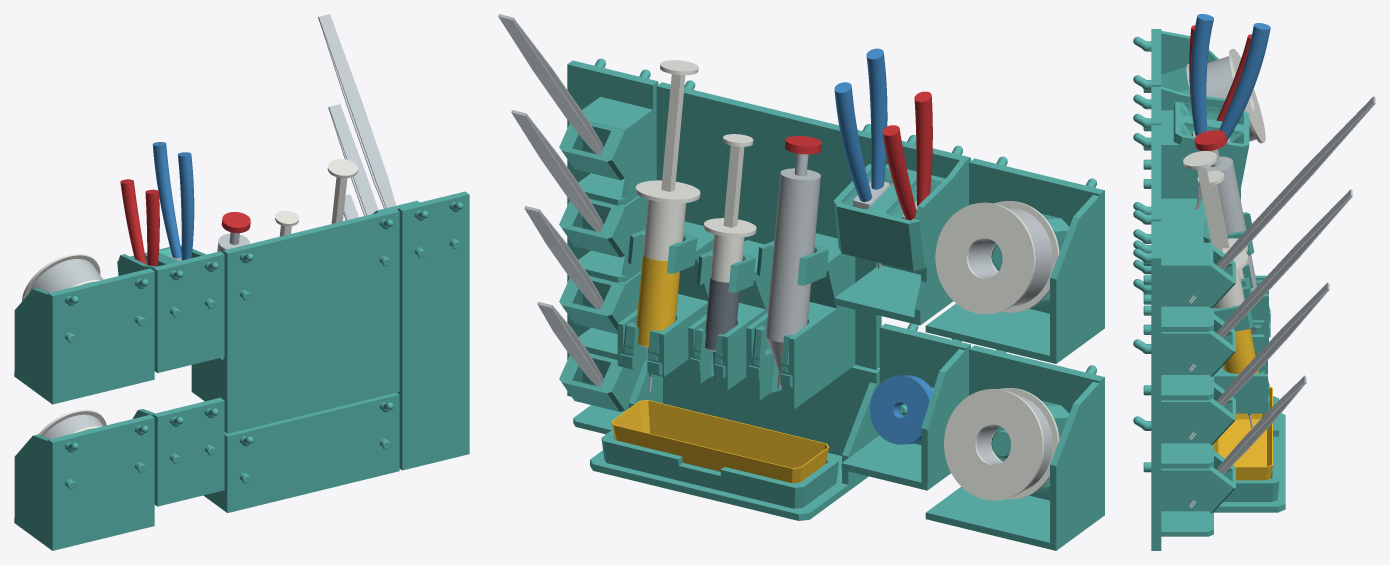
Rendered from loaded.glb.
3 views of the same model, side by side, from view 1: azimuth 30°, elevation 25°; view 2: azimuth 150°, elevation 25°; view 3: azimuth 270°, elevation 25° (orthographic). The views are drawn at different scales.
Visible parts, largest first — view 1: Actual holder mesh, Actual holder mesh.001, Actual holder mesh.002, Actual holder mesh.003, Actual holder mesh.005, Actual holder mesh.006, Actual holder mesh.004, tweezer, tweezer.001, needle-nose.005, needle-nose.004, solder.001 (+5 smaller); view 2: Actual holder mesh, Actual holder mesh.001, Actual holder mesh.005, Actual holder mesh.003, Actual holder mesh.002, Actual holder mesh.006, Actual holder mesh.004, Removable liner, solder, solder.002, sucker, flux (+14 smaller); view 3: Actual holder mesh.001, Actual holder mesh.006, Actual holder mesh, Actual holder mesh.005, Actual holder mesh.002, Removable liner, tweezer, flux, tweezer.001, needle-nose.004, needle-nose.005, tweezer.002 (+10 smaller).
Boxes of the visible parts, box(x1,y1,x2,y2) form: Actual holder mesh: box(191, 208, 399, 433); Actual holder mesh.001: box(373, 191, 469, 470); Actual holder mesh.002: box(14, 268, 154, 404); Actual holder mesh.003: box(14, 414, 154, 550); Actual holder mesh.005: box(203, 392, 399, 512); Actual holder mesh.006: box(117, 245, 224, 372); Actual holder mesh.004: box(132, 397, 224, 506); tweezer: box(318, 14, 396, 208); tweezer.001: box(328, 104, 378, 215); needle-nose.005: box(152, 142, 181, 258); needle-nose.004: box(177, 152, 194, 260); solder.001: box(29, 259, 102, 293); Actual holder mesh: box(617, 80, 881, 409); Actual holder mesh.001: box(559, 58, 658, 434); Actual holder mesh.005: box(590, 360, 879, 520); Actual holder mesh.003: box(925, 345, 1104, 550); Actual holder mesh.002: box(925, 156, 1104, 363); Actual holder mesh.006: box(834, 135, 970, 325); Actual holder mesh.004: box(841, 323, 970, 490); Removable liner: box(611, 400, 829, 483); solder: box(935, 201, 1059, 314); solder.002: box(944, 388, 1059, 500); sucker: box(766, 153, 820, 388); flux: box(635, 60, 700, 347); Actual holder mesh.001: box(1133, 221, 1235, 550); Actual holder mesh.006: box(1133, 86, 1249, 229); Actual holder mesh: box(1133, 125, 1270, 413); Actual holder mesh.005: box(1133, 339, 1285, 512); Actual holder mesh.002: box(1133, 29, 1218, 131); Removable liner: box(1214, 386, 1272, 480); tweezer: box(1189, 96, 1375, 303); flux: box(1183, 151, 1248, 308); tweezer.001: box(1189, 189, 1352, 371); needle-nose.004: box(1190, 14, 1213, 135); needle-nose.005: box(1219, 23, 1270, 140); tweezer.002: box(1189, 282, 1329, 439).
Size of the model in its own units: 0.3028 by 0.2623 by 0.1352.
